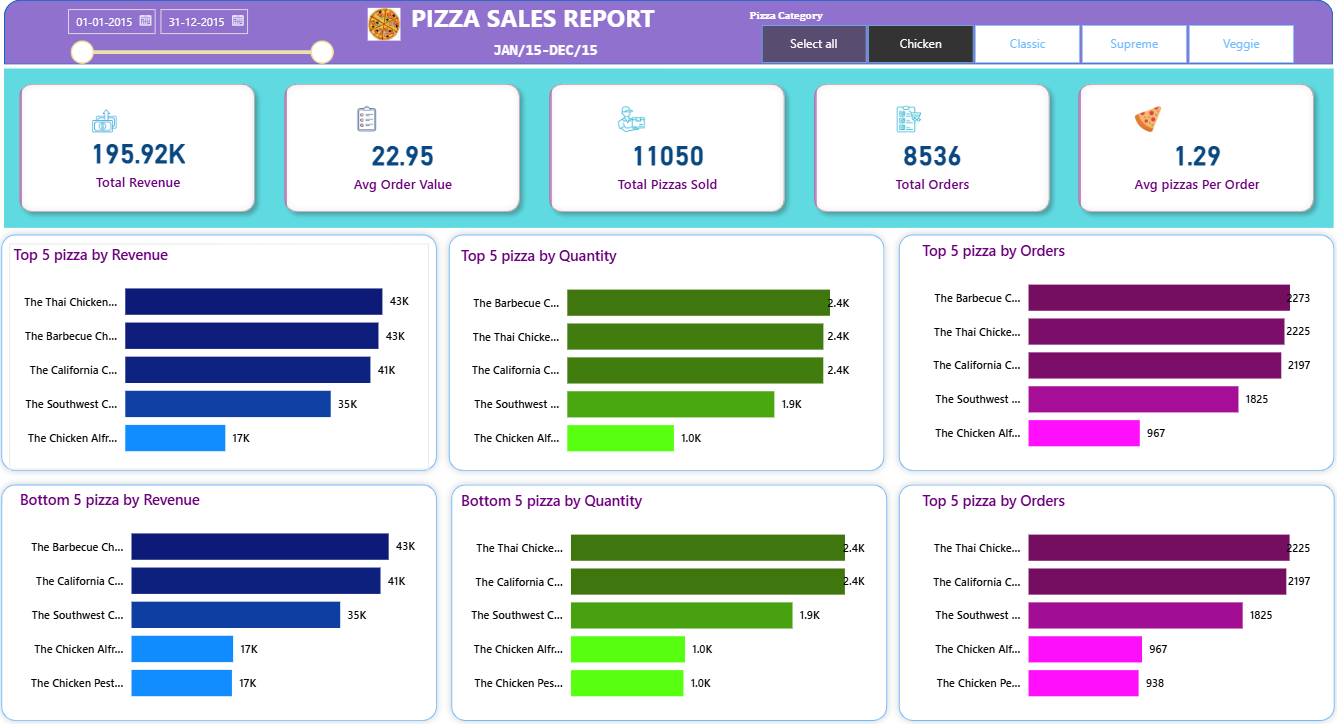

This screenshot's page, from the dashboard's own definition file:
{"tool":"powerbi","page":{"name":"Best/Worst Sellers","canvas":[1500,820],"ordinal":1},"visuals":[{"type":"cardVisual","fields":{"Data":["pizza_sales.Total Revenue","pizza_sales.Avg Order Value","pizza_sales.Total Pizzas Sold","pizza_sales.Total Orders","pizza_sales.Avg pizzas Per Order"]},"box":[10.8,79,1461.7,175.6],"z":1000,"group":"g1"},{"type":"shape","box":[11.2,4.5,1461.1,71.2],"z":2000,"group":"g1"},{"type":"textbox","box":[453.8,0,418.3,53],"z":3000,"group":"g1"},{"type":"textbox","box":[543.9,45.5,170.7,34.9],"z":4000,"group":"g1"},{"type":"image","box":[382.6,7.6,93.8,45.5],"z":5000,"group":"g1"},{"type":"shape","box":[0,253.7,494.8,275.7],"z":6000,"group":"g1"},{"type":"slicer","fields":{"Values":["pizza_sales.pizza_category"]},"box":[816.9,9.6,635.2,70.8],"z":11000,"group":"g1"},{"type":"shape","box":[986.2,253.7,494.8,275.7],"z":12000,"group":"g1"},{"type":"shape","box":[491.4,253.7,494.8,275.7],"z":13000,"group":"g1"},{"type":"shape","box":[0,529.4,494.8,275.7],"z":14000,"group":"g1"},{"type":"shape","box":[495.1,528.9,495.2,275.8],"z":15000,"group":"g1"},{"type":"shape","box":[986.5,528.9,495.2,275.8],"z":16000,"group":"g1"},{"type":"clusteredBarChart","title":"Top 5 pizza by Revenue ","fields":{"Category":["pizza_sales.pizza_name"],"Y":["pizza_sales.Total Revenue"]},"box":[17.1,271.6,460.7,249.5],"z":17000,"group":"g1"},{"type":"clusteredBarChart","title":"Bottom 5 pizza by Revenue ","fields":{"Category":["pizza_sales.pizza_name"],"Y":["pizza_sales.Total Revenue"]},"box":[23.9,541.8,460.7,249.5],"z":18000,"group":"g1"},{"type":"clusteredBarChart","title":"Top 5 pizza by Quantity","fields":{"Category":["pizza_sales.pizza_name"],"Y":["pizza_sales.Total Pizzas Sold"]},"box":[508.5,273,436.8,248.2],"z":19000,"group":"g1"},{"type":"clusteredBarChart","title":"Bottom 5 pizza by Quantity","fields":{"Category":["pizza_sales.pizza_name"],"Y":["pizza_sales.Total Pizzas Sold"]},"box":[508.5,543.2,453.9,248.2],"z":20000,"group":"g1"},{"type":"clusteredBarChart","title":"Top 5 pizza by Orders","fields":{"Category":["pizza_sales.pizza_name"],"Y":["pizza_sales.Total Orders"]},"box":[1015.3,267.5,436.8,248.2],"z":21000,"group":"g1"},{"type":"clusteredBarChart","title":"Top 5 pizza by Orders","fields":{"Category":["pizza_sales.pizza_name"],"Y":["pizza_sales.Total Orders"]},"box":[1015.3,543.2,436.8,248.2],"z":22000,"group":"g1"},{"type":"slicer","fields":{"Values":["pizza_sales.order_date"]},"box":[69.3,4.5,313.2,83.4],"z":23000,"group":"g1"},{"type":"group","id":"g1","title":"Group 1","box":[0,0,1481.7,805.2],"z":23001}]}

Visuals, with their boxes in screenshot pixels (x1, y1, x2, y2), scaled from the page's 1500x820 canvas onto the 1337x724 screenshot:
cardVisual - pizza_sales.Total Revenue x pizza_sales.Avg Order Value: bbox(10, 70, 1312, 225)
shape: bbox(10, 4, 1312, 67)
textbox: bbox(404, 0, 777, 47)
textbox: bbox(485, 40, 637, 71)
image: bbox(341, 7, 425, 47)
shape: bbox(0, 224, 441, 467)
slicer - pizza_sales.pizza_category: bbox(728, 8, 1294, 71)
shape: bbox(879, 224, 1320, 467)
shape: bbox(438, 224, 879, 467)
shape: bbox(0, 467, 441, 711)
shape: bbox(441, 467, 883, 710)
shape: bbox(879, 467, 1321, 710)
"Top 5 pizza by Revenue " clusteredBarChart: bbox(15, 240, 426, 460)
"Bottom 5 pizza by Revenue " clusteredBarChart: bbox(21, 478, 432, 699)
"Top 5 pizza by Quantity" clusteredBarChart: bbox(453, 241, 843, 460)
"Bottom 5 pizza by Quantity" clusteredBarChart: bbox(453, 480, 858, 699)
"Top 5 pizza by Orders" clusteredBarChart: bbox(905, 236, 1294, 455)
"Top 5 pizza by Orders" clusteredBarChart: bbox(905, 480, 1294, 699)
slicer - pizza_sales.order_date: bbox(62, 4, 341, 78)
"Group 1" group: bbox(0, 0, 1321, 711)
